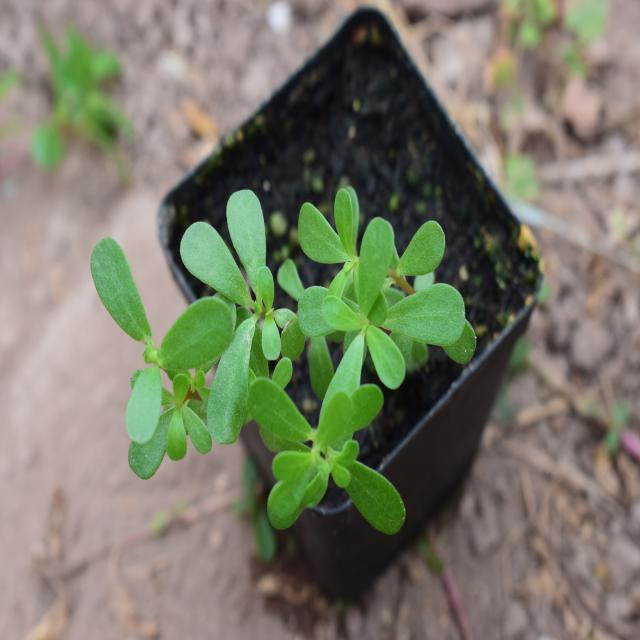purslane: (90, 194, 481, 537)
